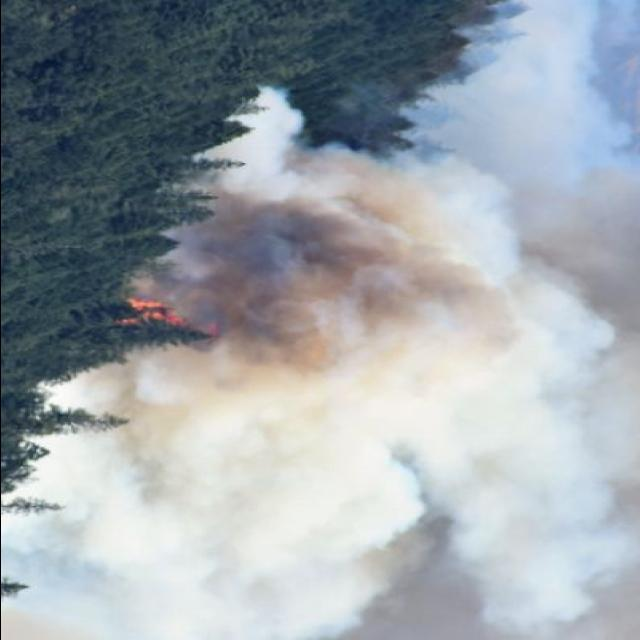Fire: (112, 288, 216, 342)
